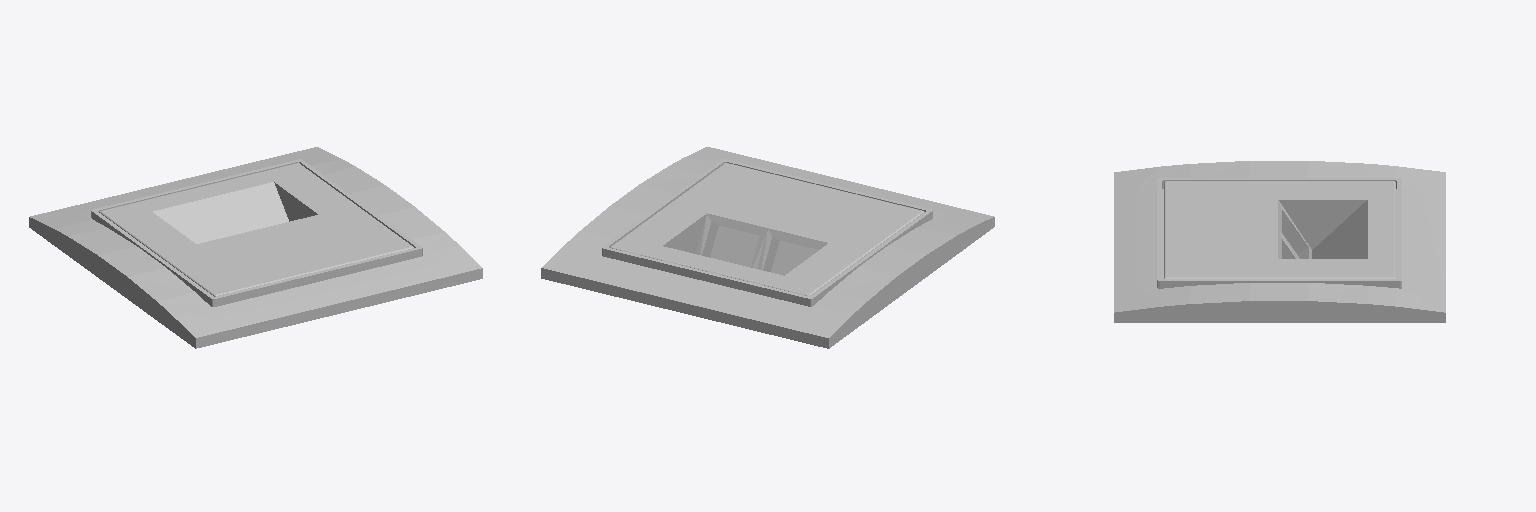
The model's file is SM_Socket_013.obj.
The picture shows the model from 3 angles: view 1: azimuth 30°, elevation 25°; view 2: azimuth 150°, elevation 25°; view 3: azimuth 270°, elevation 25°; orthographic projection.
Visible parts, largest first — view 1: SM_Socket_013; view 2: SM_Socket_013; view 3: SM_Socket_013.
Boxes of the visible parts, <box> form: SM_Socket_013: <box>29,147,482,348</box>; SM_Socket_013: <box>541,147,994,348</box>; SM_Socket_013: <box>1114,161,1445,322</box>.
Bounding box in the file's own units: 0.0835 × 0.015 × 0.0835.